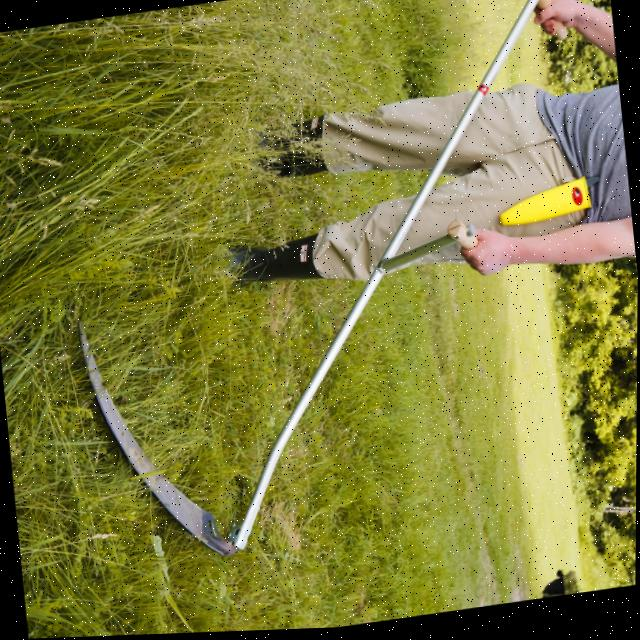sickle: (26, 0, 625, 605)
